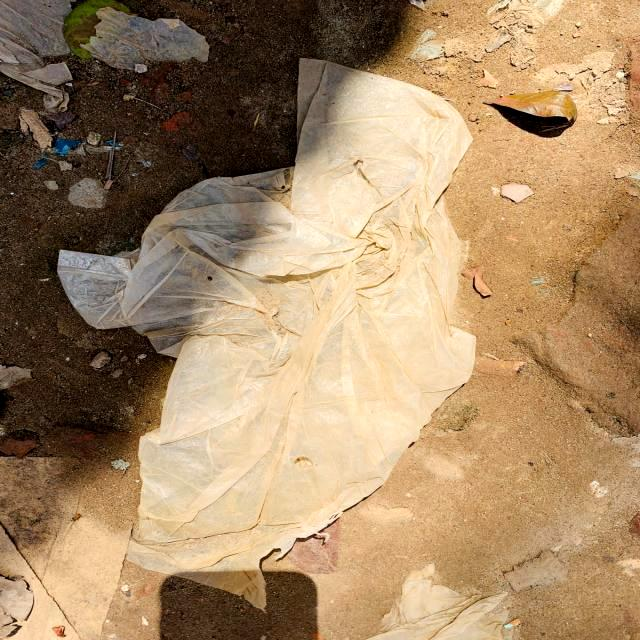polythene: (143, 111, 482, 594)
